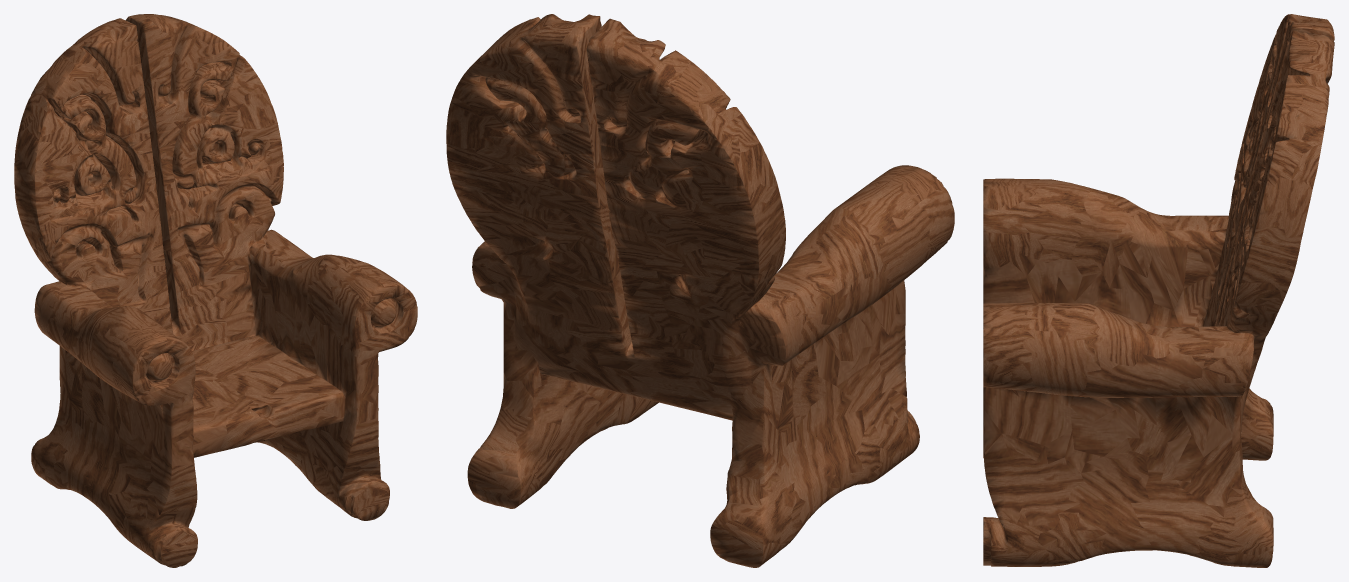
Rendered from Silla.fbx.
The picture shows the model from 3 angles, left to right: view 1: azimuth 30°, elevation 25°; view 2: azimuth 150°, elevation 25°; view 3: azimuth 270°, elevation 25°; orthographic projection. The views are drawn at different scales.
Visible parts, largest first — view 1: Mesh_0.002; view 2: Mesh_0.002; view 3: Mesh_0.002.
Boxes of the visible parts, box(x1,y1,x2,y2) form: Mesh_0.002: box(14, 14, 417, 567); Mesh_0.002: box(446, 14, 954, 567); Mesh_0.002: box(983, 14, 1334, 567).
Size of the model in its own units: 135 by 190 by 126.
1 material, 1 textured.
